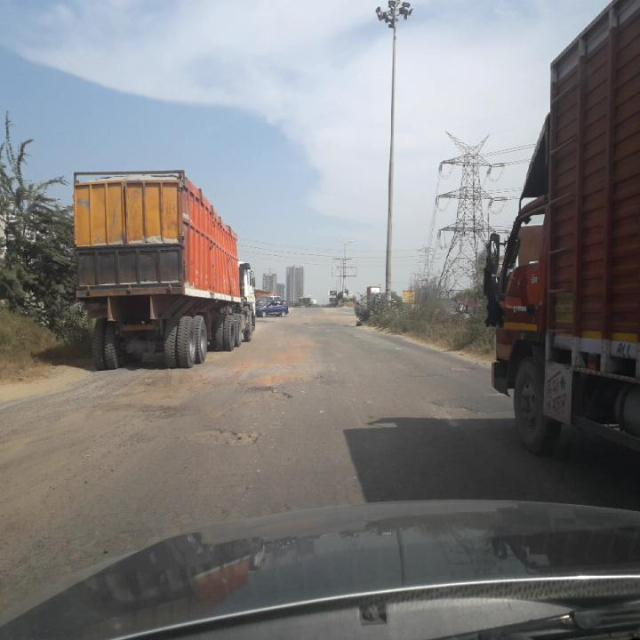Surface Erosion: (123, 309, 510, 496)
